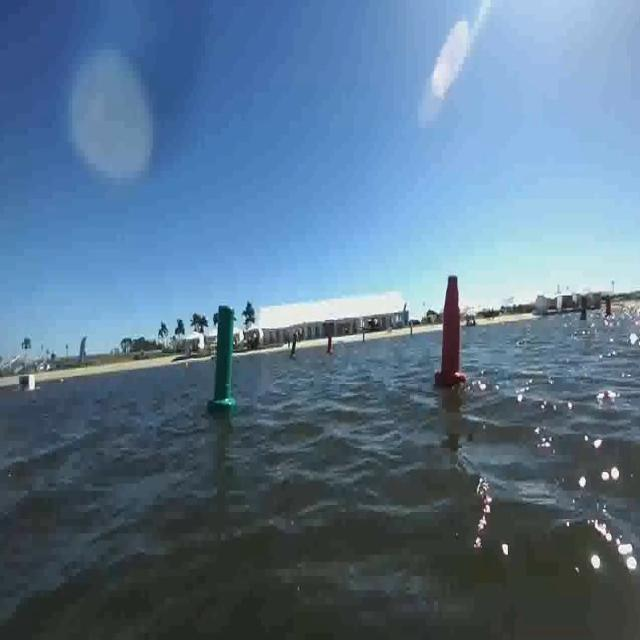green-column-buoy: (210, 302, 238, 413)
red-column-buoy: (436, 272, 468, 390)
